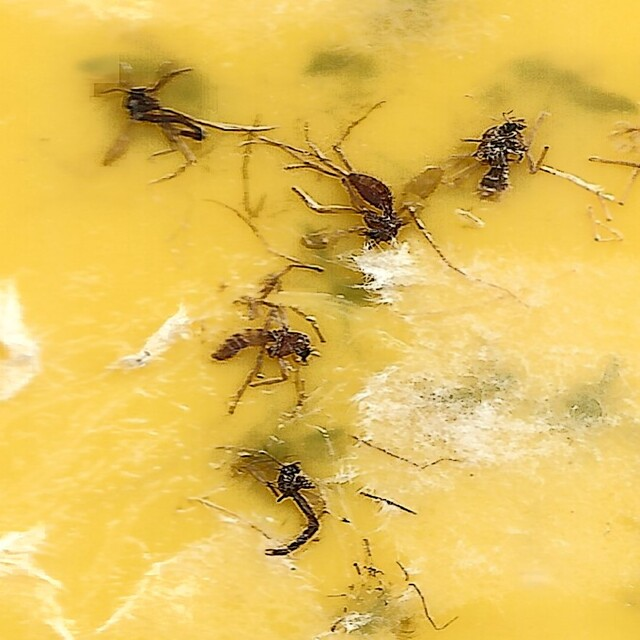Nematocera: (94, 73, 219, 176), (212, 318, 311, 405), (337, 164, 440, 243), (254, 461, 329, 567), (472, 116, 546, 192)
